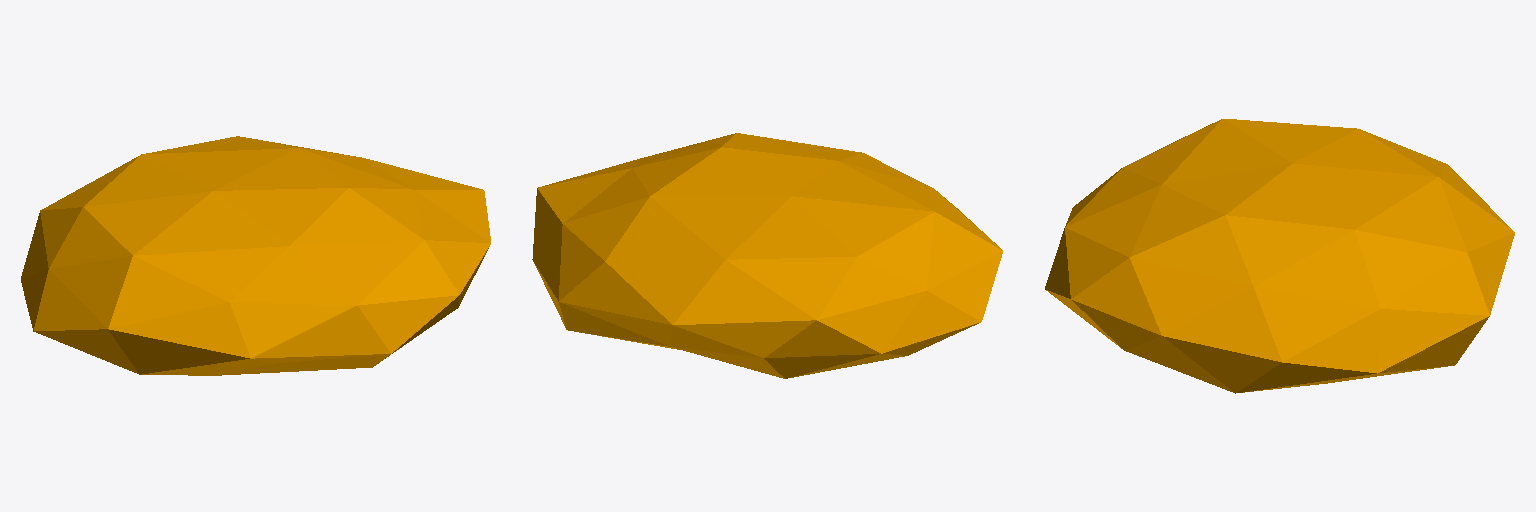
URDF robot description (train3159):
<?xml version="1.0"?>
<robot name="train3159">
  <link name="link">
    <contact>
      <lateral_friction value="0.6"/>
    </contact>
    <inertial>
      <mass value = "0.44333471275002856"/>
      <inertia ixx="0.00023507313902794302" ixy="-2.658624663194435e-20" ixz="-5.120314166152246e-20" iyy="0.00029096558704853377" iyz="4.7018269506494177e-20" izz="0.00046628962444353957" />
    </inertial>
    <visual name="visual">
      <geometry>
        <mesh filename="train3159.obj"/>
      </geometry>
    </visual>
    <collision name="collision">
      <geometry>
        <mesh filename="train3159.obj"/>
      </geometry>
    </collision>
  </link>
</robot>

--- Render facts (derived) ---
Views: 3 orthographic renders of the robot side by side, from view 1: azimuth 30°, elevation 25°; view 2: azimuth 150°, elevation 25°; view 3: azimuth 270°, elevation 25°.
Robot: train3159 — 1 links, 0 joints (none); root link link; default pose: all joints at 0.
Visible links, largest first — view 1: link; view 2: link; view 3: link.
Boxes of the visible links, box(x1,y1,x2,y2) form: link: box(21, 136, 490, 375); link: box(532, 133, 1002, 378); link: box(1045, 119, 1514, 393).
Size in the robot's own frame: 0.1185 by 0.1016 by 0.0374 metres.
Meshes: 1 distinct files referenced, 1 mesh visuals loaded (1 OBJ).
